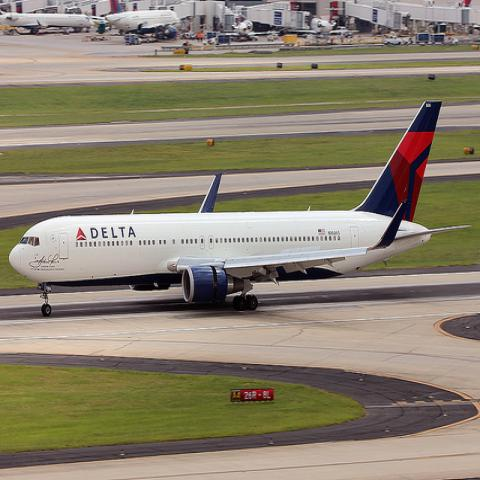truck: (125, 34, 143, 45), (383, 35, 401, 45)
